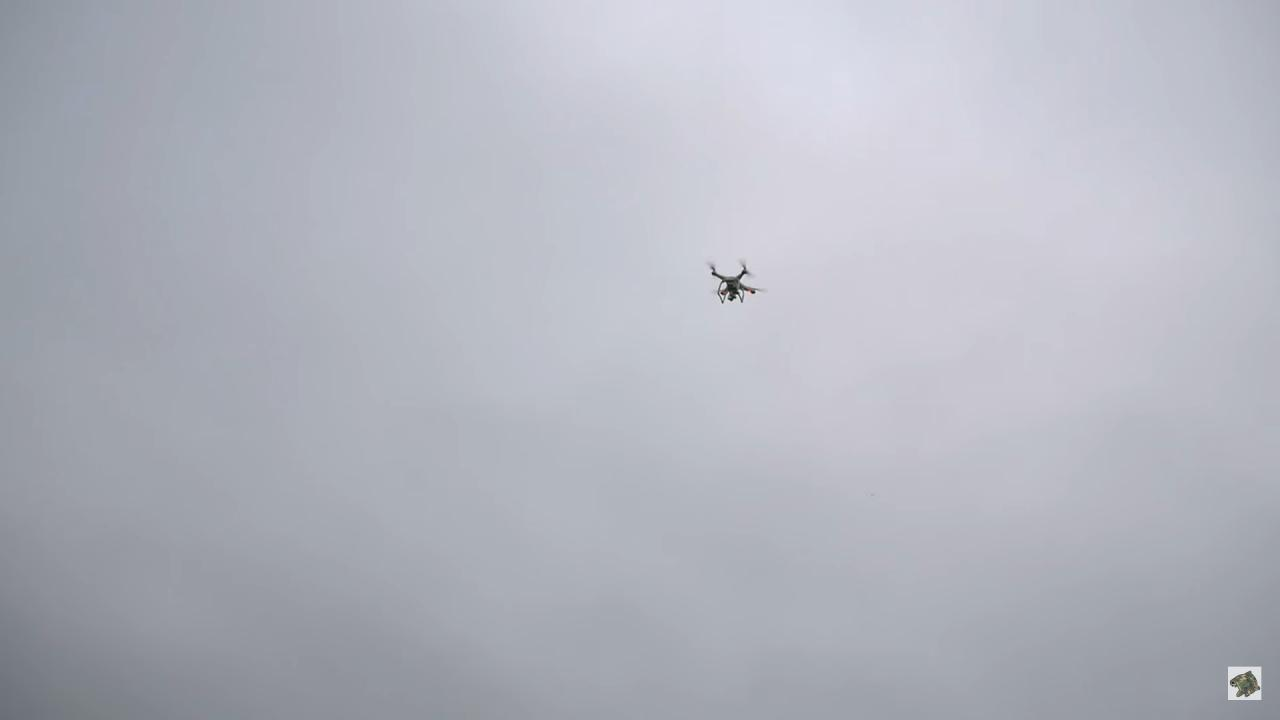Drone: (701, 253, 768, 312)
